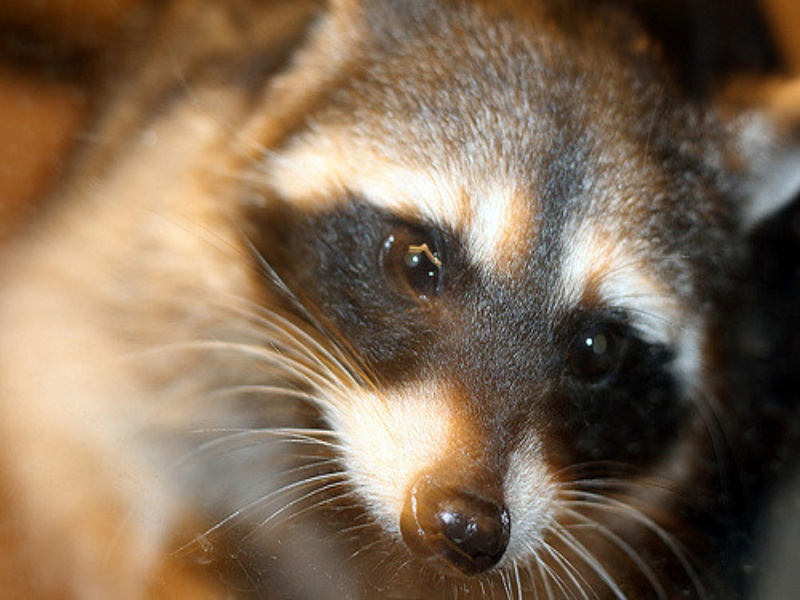raccoon: (29, 13, 757, 584)
